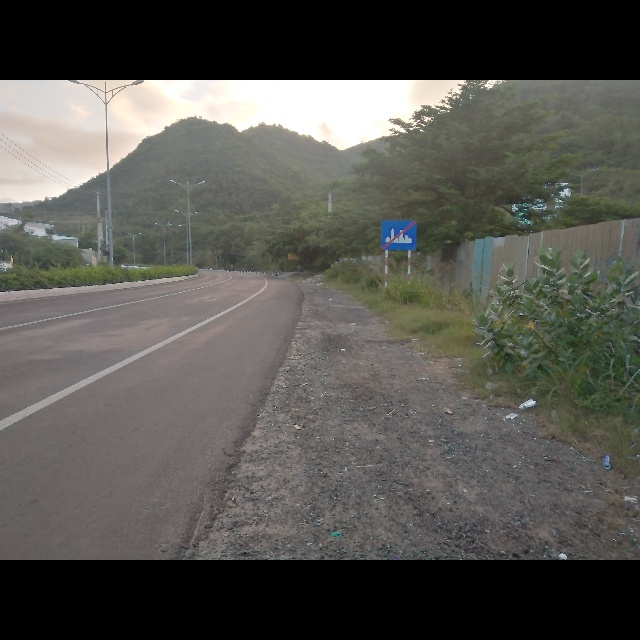Hết khu đông dân cư: (380, 219, 418, 253)
